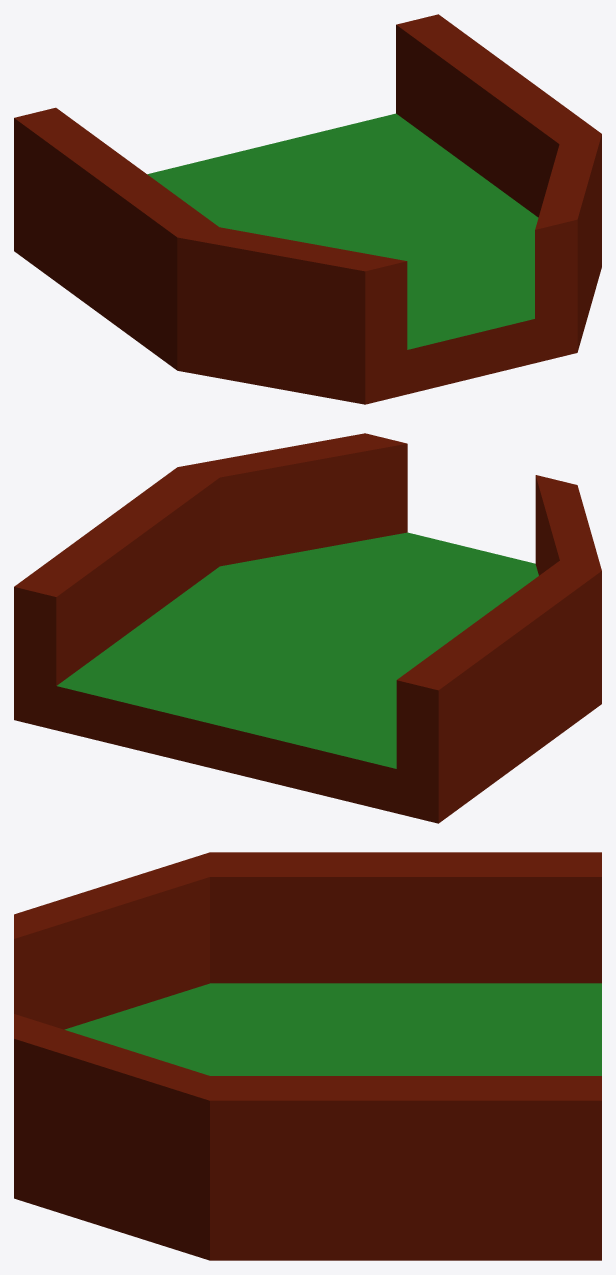
Rendered from ThickThickThin.obj.
3 renders of one model, top to bottom at view 1: azimuth 30°, elevation 25°; view 2: azimuth 150°, elevation 25°; view 3: azimuth 270°, elevation 25°, orthographic. The views are drawn at different scales.
Visible parts, largest first — view 1: ThickThickThin; view 2: ThickThickThin; view 3: ThickThickThin.
Boxes of the visible parts, x1,y1,x2,y2 form: ThickThickThin: (14,14,601,404); ThickThickThin: (14,433,601,823); ThickThickThin: (14,852,601,1260).
Size of the model in its own units: 2 by 0.6 by 2.
